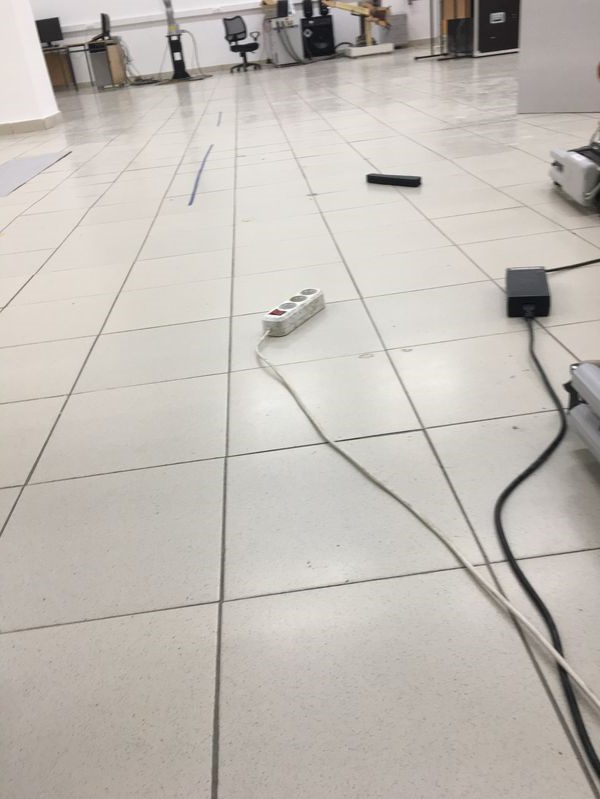socket: (252, 282, 331, 343)
